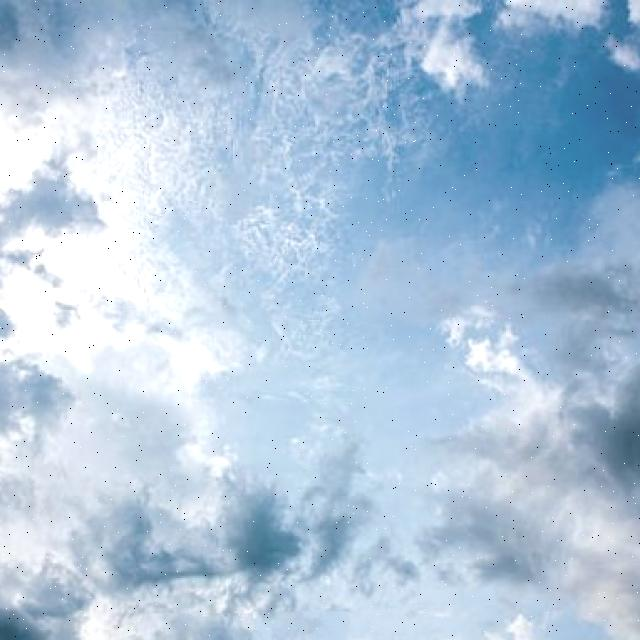Ns: (1, 2, 640, 638)
